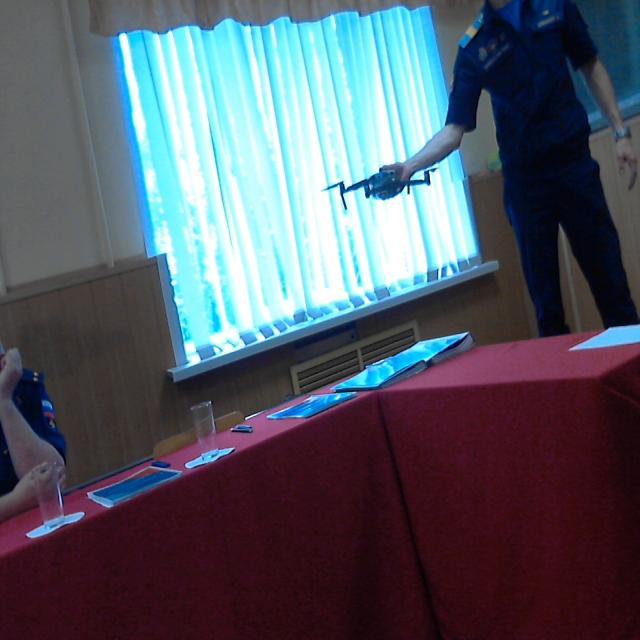drone: (324, 155, 440, 212)
